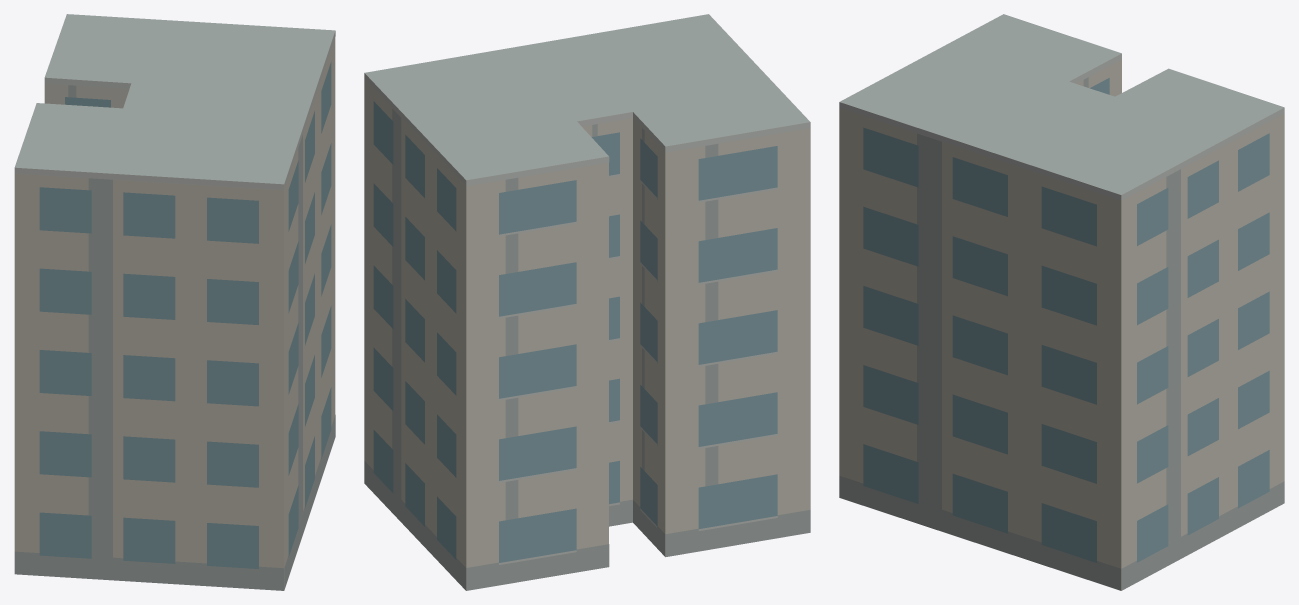
Rendered from survey-upis-32884770.glb.
The picture shows the model from 3 angles, left to right: view 1: azimuth 30°, elevation 25°; view 2: azimuth 150°, elevation 25°; view 3: azimuth 270°, elevation 25°; orthographic projection. The views are drawn at different scales.
Visible parts, largest first — view 1: survey-upis-32884770.tmp; view 2: survey-upis-32884770.tmp; view 3: survey-upis-32884770.tmp.
Part boxes in pixels (<box>): survey-upis-32884770.tmp: <box>14,14,335,590</box>; survey-upis-32884770.tmp: <box>364,14,810,590</box>; survey-upis-32884770.tmp: <box>839,14,1284,590</box>.
Size of the model in its own units: 16.3 by 16.6 by 16.94.
